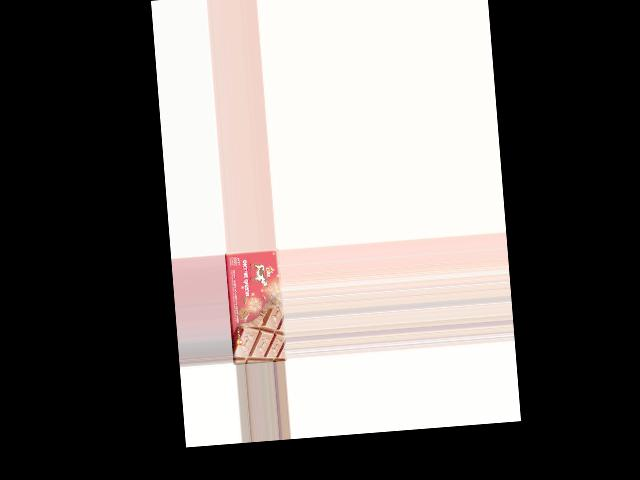chocolate: (224, 247, 286, 364)
